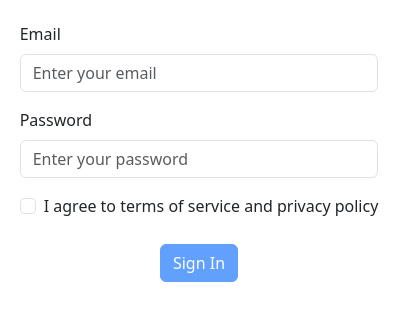
Login testi › Yanlış email girildiğinde ekranda 1 tane doğru hata mesajı var ve buton disabled durumda
The width and height of the screenshot is (399, 312).
Type "umit@sahincom" into the field with test id "email-input" at (200, 73), box [20,54,379,92]
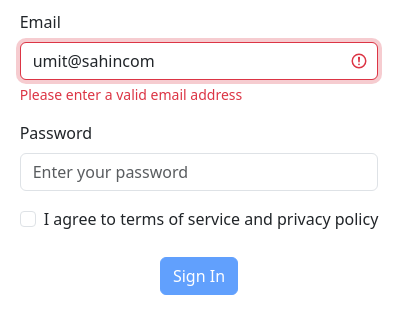
Result: the number of elements with test id "errorMessage-email" is 1 at [20,85,243,104]
Result: the text "Please enter a valid email address" is shown at [20,84,242,104]
Result: the text with test id "errorMessage-email" reads "Please enter a valid email address" at [20,85,243,104]
